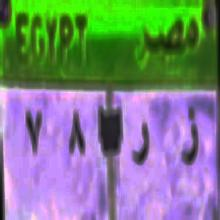7: (24, 102, 44, 162)
8: (66, 106, 86, 166)
raa: (128, 117, 152, 172)
zay: (180, 98, 199, 171)
